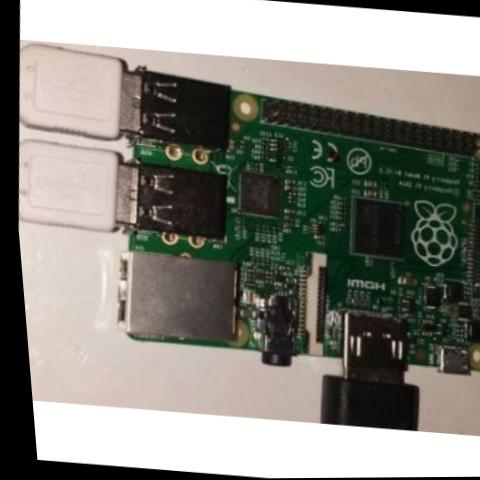Raspberry-Pi-1-Model-B-: (85, 55, 480, 392)
